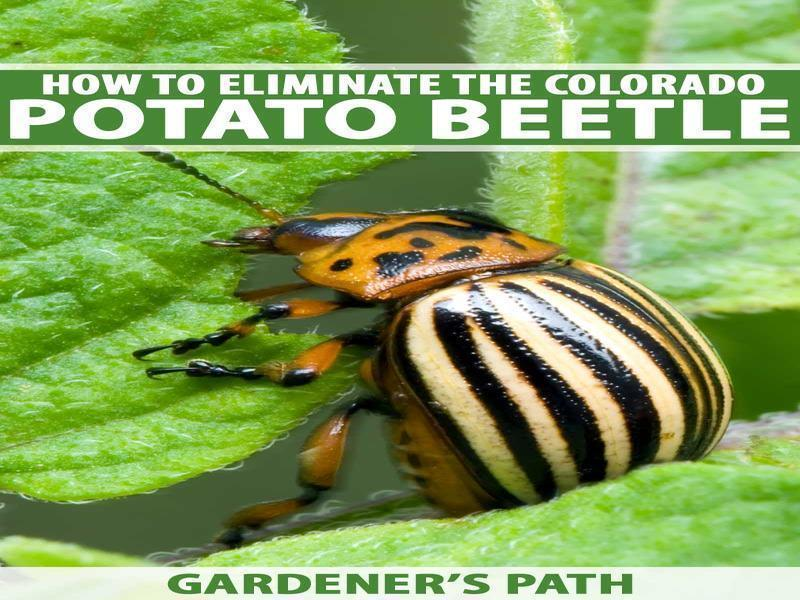hrosc: (203, 177, 740, 507)
